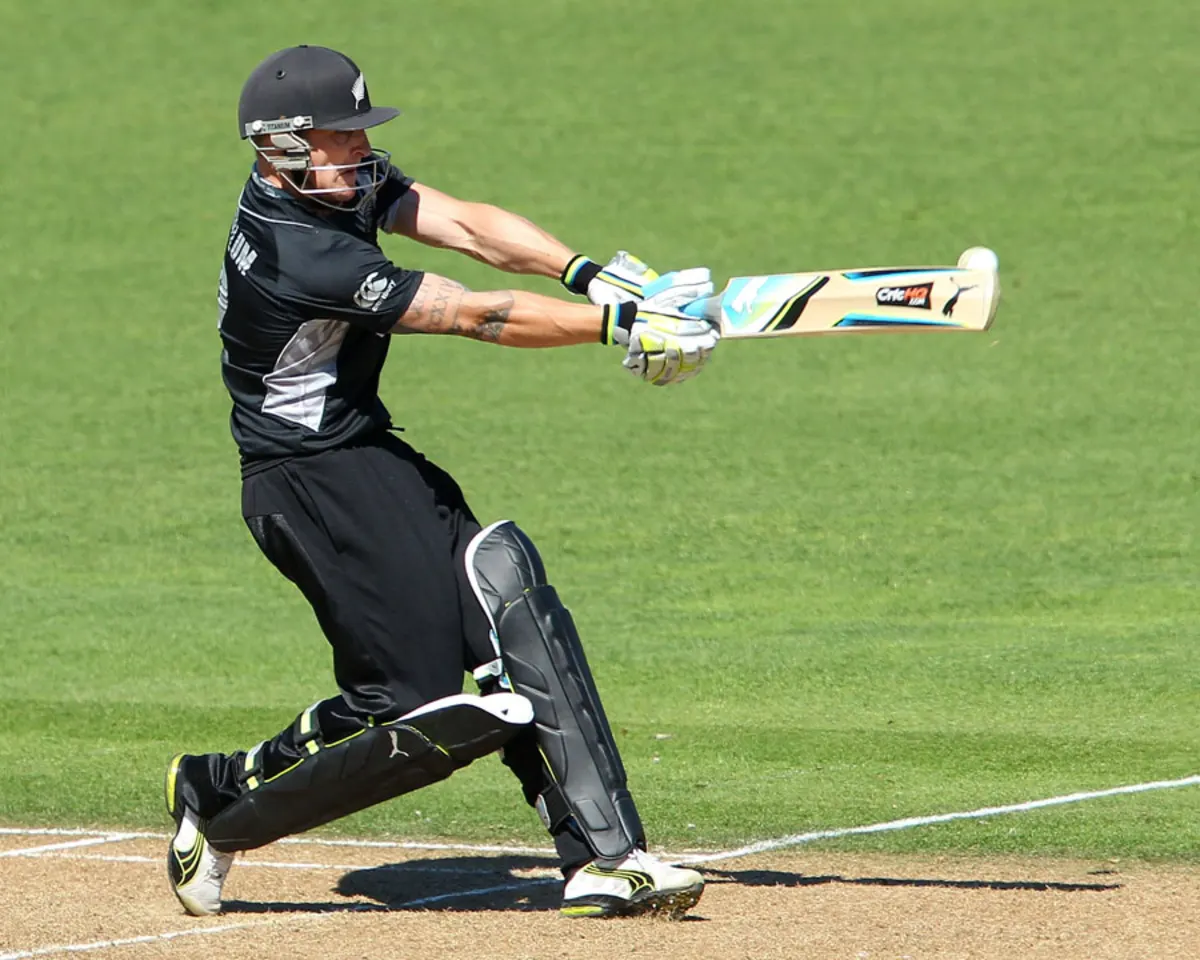Pullshot: (124, 6, 1042, 960)
